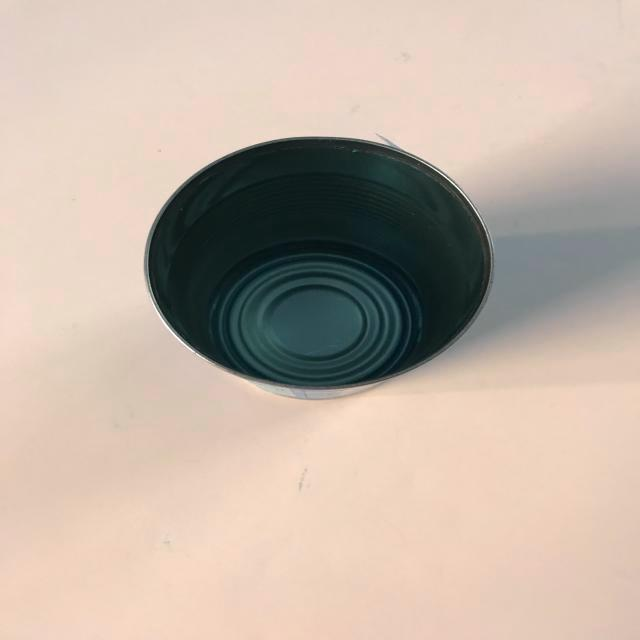metal: (132, 122, 517, 402)
